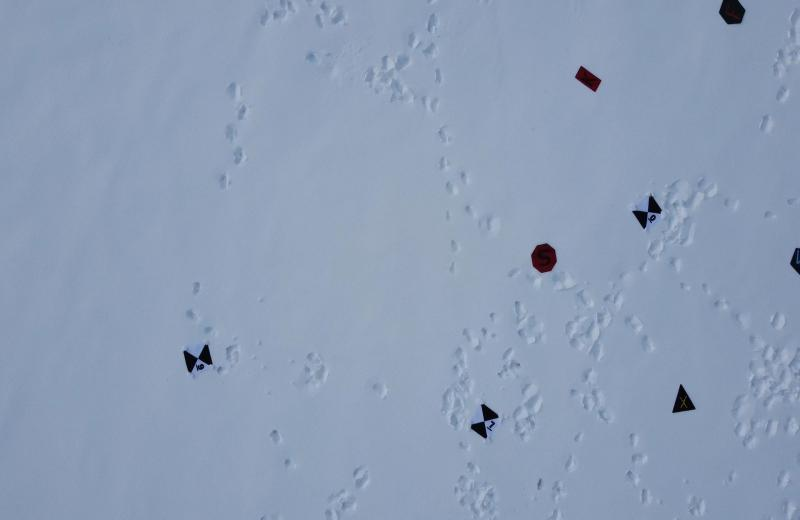Hexagon: (719, 0, 746, 32)
Octagon: (530, 240, 560, 275)
Pentagon: (786, 246, 800, 278)
Rectangle: (572, 64, 604, 96)
Triangle: (668, 383, 698, 415)
